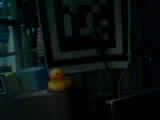duck: (32, 56, 78, 100)
